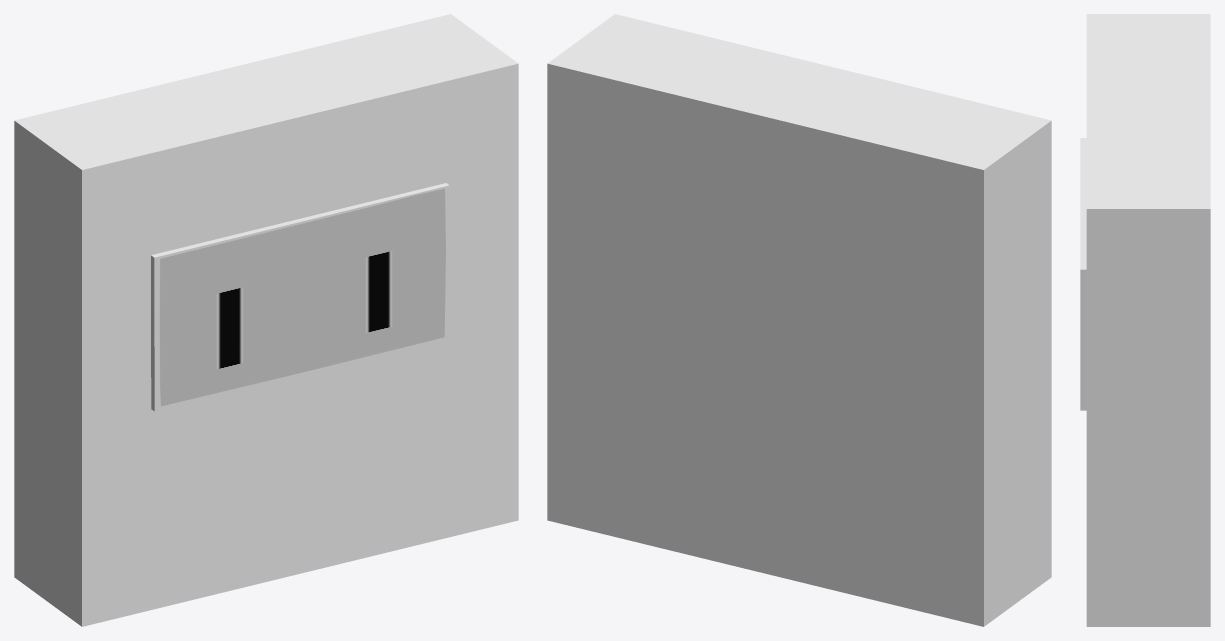
The model's file is 插线板1.fbx.
3 views of the same model, side by side, from view 1: azimuth 30°, elevation 25°; view 2: azimuth 150°, elevation 25°; view 3: azimuth 270°, elevation 25° (orthographic). The views are drawn at different scales.
Parts seen in each view (by area): view 1: 立方体; view 2: 立方体; view 3: 立方体.
Part boxes in pixels (x1,y1,x2,y2): 立方体: [14, 14, 518, 626]; 立方体: [547, 14, 1051, 626]; 立方体: [1080, 14, 1210, 626].
Size of the model in its own units: 592 by 592 by 167.
Materials: 1 (1 with a texture image).
